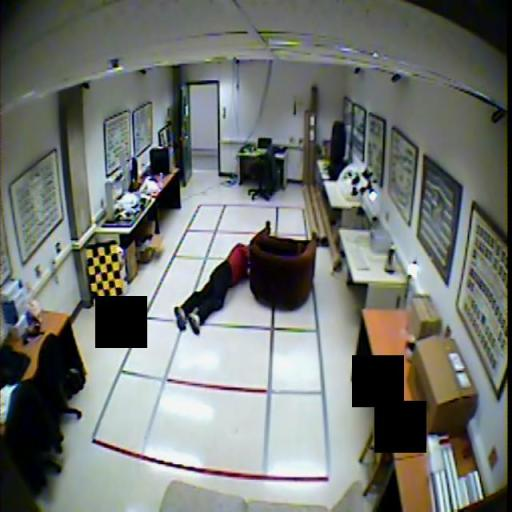Fall: (174, 241, 249, 336)
